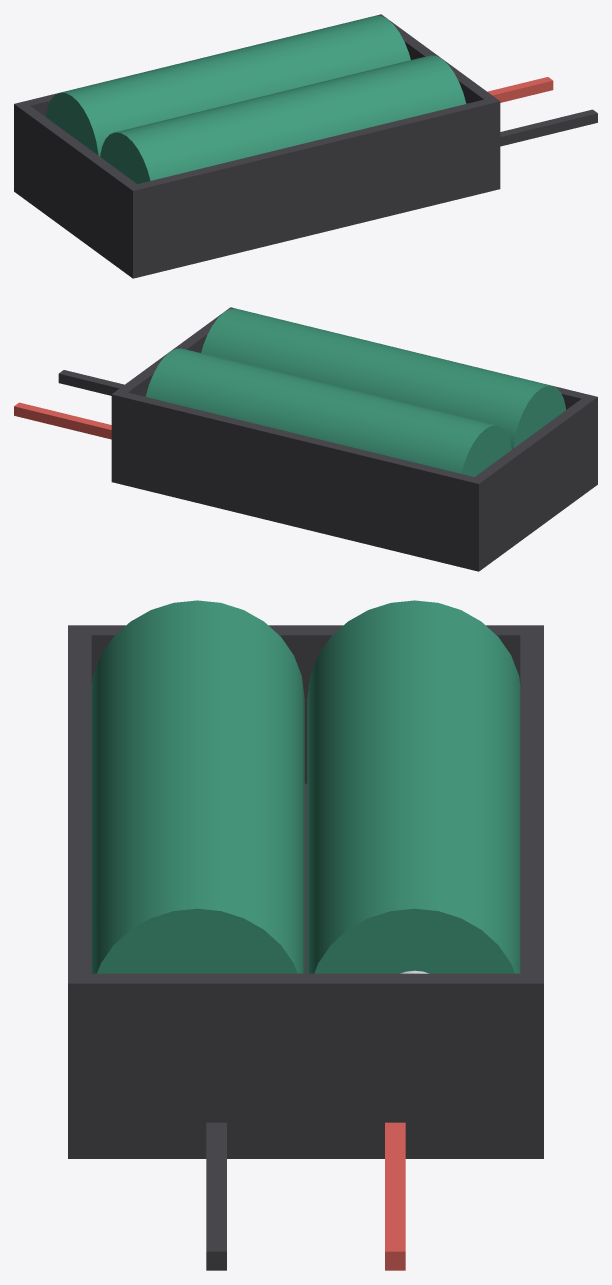
Rendered from battery.glb.
3 renders of one model, top to bottom at view 1: azimuth 30°, elevation 25°; view 2: azimuth 150°, elevation 25°; view 3: azimuth 270°, elevation 25°, orthographic. The views are drawn at different scales.
Visible parts, largest first — view 1: holder, cells, wires; view 2: holder, cells, wires; view 3: cells, holder, wires.
Part boxes in pixels (<box>): holder: <box>14,14,500,278</box>; cells: <box>46,15,466,183</box>; wires: <box>487,77,597,146</box>; holder: <box>111,307,597,571</box>; cells: <box>145,308,565,476</box>; wires: <box>14,370,124,439</box>; cells: <box>91,600,520,973</box>; holder: <box>68,625,543,1158</box>; wires: <box>206,1122,405,1270</box>.
Bounding box in the file's own units: 0.0775 × 0.0167 × 0.032.
